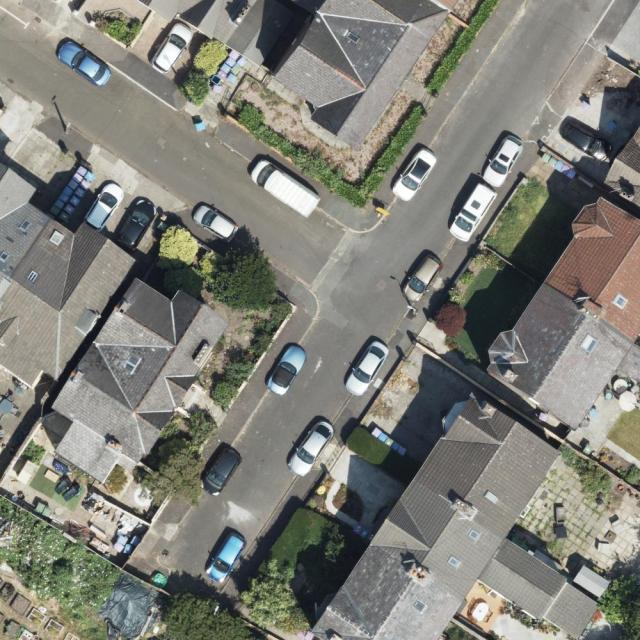roof: (0, 162, 232, 485), (314, 390, 603, 640), (134, 0, 451, 150), (486, 195, 640, 433), (605, 126, 640, 209)
skylight: (119, 352, 141, 379), (578, 331, 600, 356), (45, 228, 68, 250), (23, 268, 44, 286), (413, 597, 430, 615), (445, 553, 463, 570), (18, 214, 34, 233), (484, 487, 500, 506), (610, 294, 629, 310), (468, 527, 483, 543), (346, 31, 362, 44), (0, 250, 12, 265)
